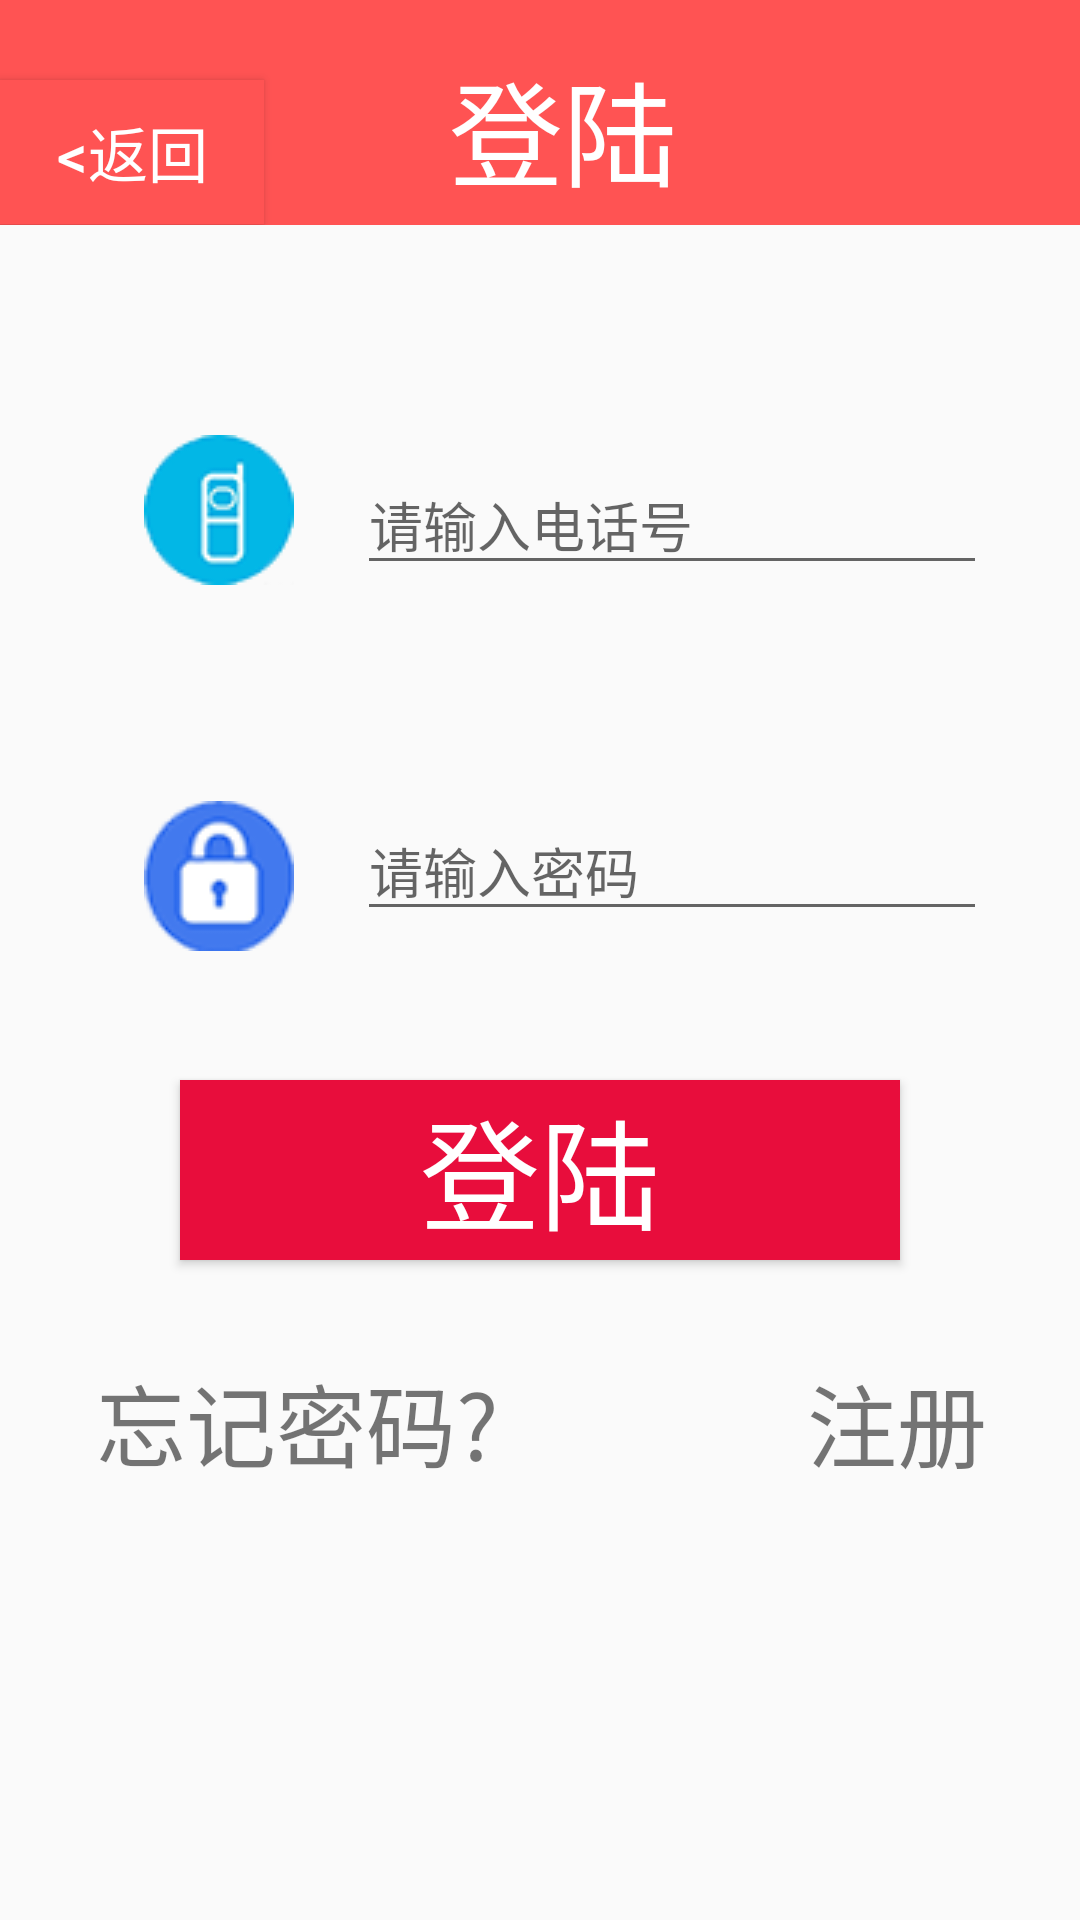

Locate icon controls on the screen. Image size 1080w x 1920h, boxes as detection(x1, y1, x2, y2).
pass: detection(144, 801, 294, 951)
phone: detection(144, 435, 294, 585)
